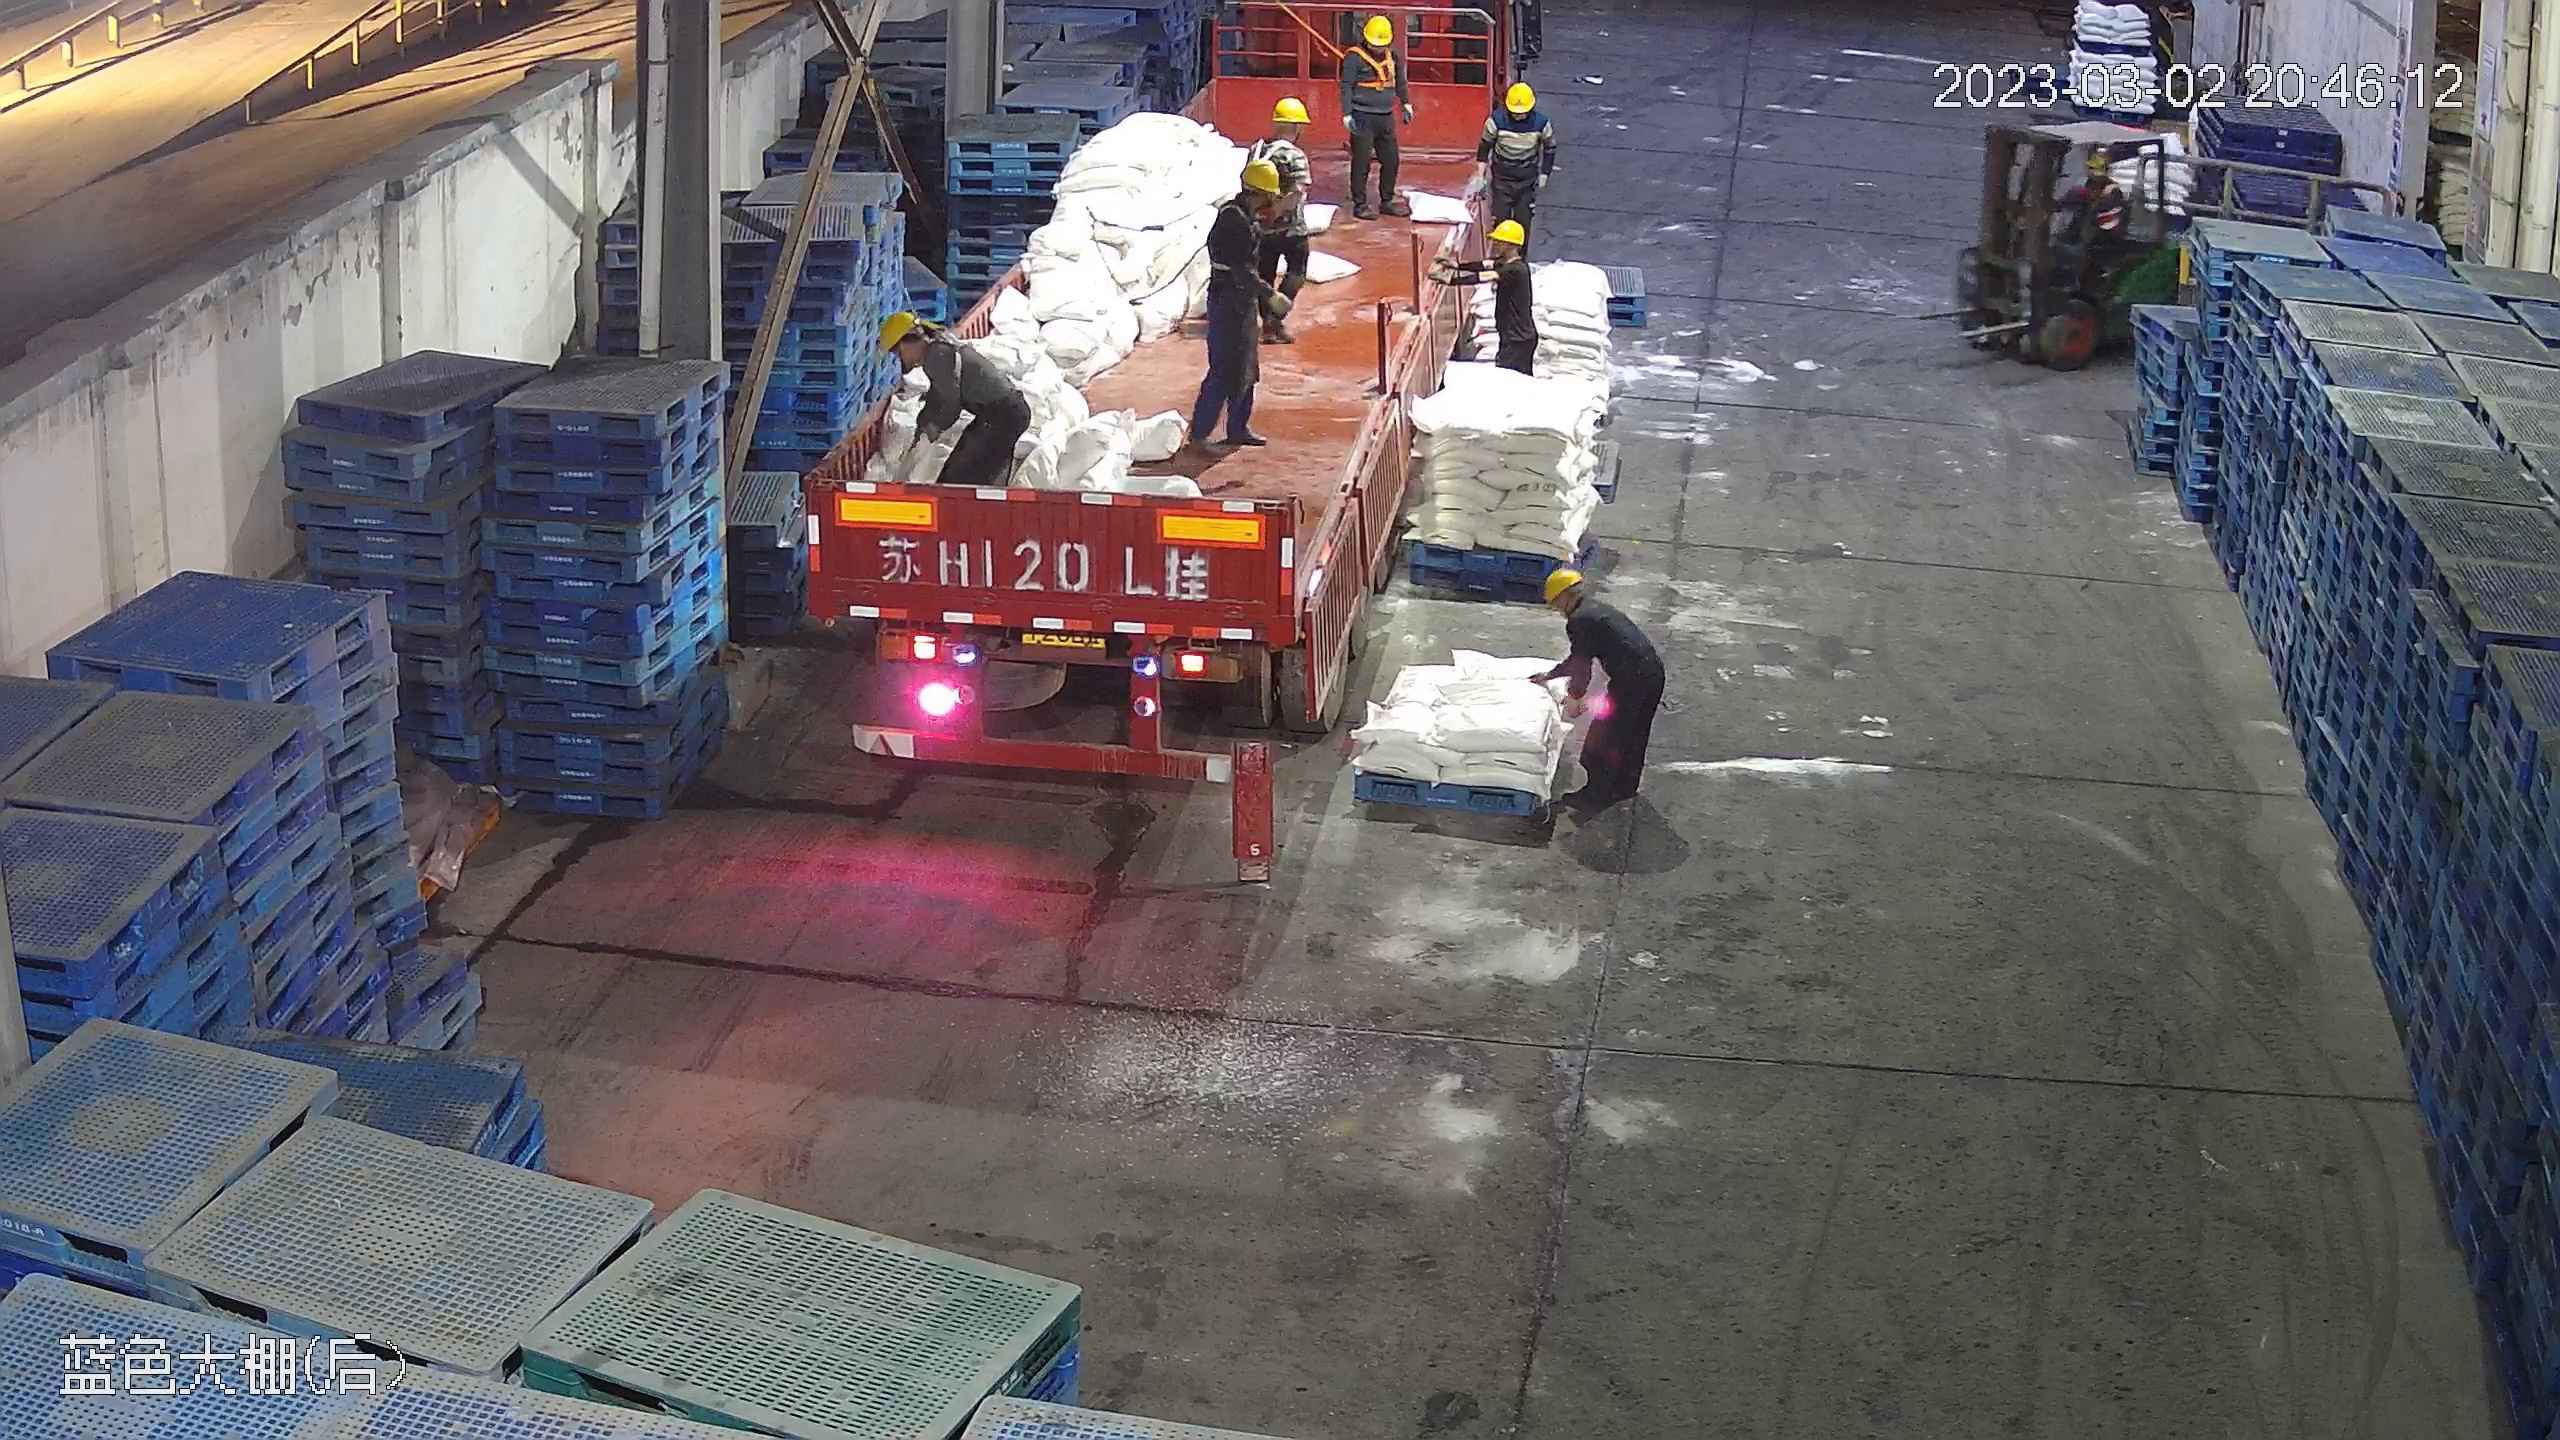belt: (934, 318, 1002, 400), (1207, 198, 1272, 269), (1347, 33, 1400, 93), (1249, 135, 1287, 162)
head: (1541, 566, 1640, 656), (879, 310, 979, 398), (1208, 158, 1282, 251), (1249, 96, 1313, 169), (1483, 79, 1553, 144), (1342, 10, 1405, 75), (1485, 218, 1535, 286)
helmet: (877, 309, 922, 358), (1236, 152, 1283, 194), (1541, 566, 1588, 608), (1270, 97, 1310, 126), (1359, 12, 1396, 42), (1492, 217, 1530, 246), (1502, 80, 1536, 110)
people: (1531, 563, 1680, 867), (1181, 147, 1297, 452), (873, 307, 1037, 498), (1337, 10, 1412, 217), (1479, 79, 1559, 265), (1476, 214, 1537, 372)
truck: (829, 34, 1473, 781)
